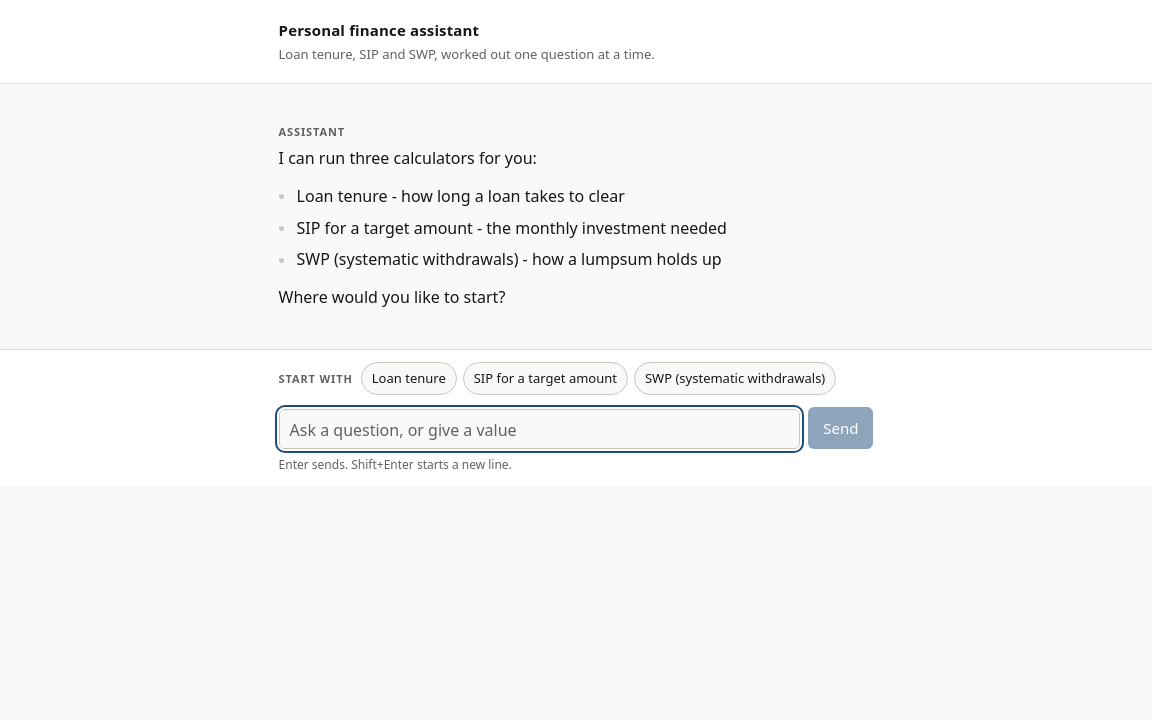
it: App › returns focus to the field after sending
Expected: the text "Where would you like to start?" is shown, [279,286,505,308]
Type "hello" into the text box named "Your message" at [539, 429], box [279,409,800,449]
Then press Enter
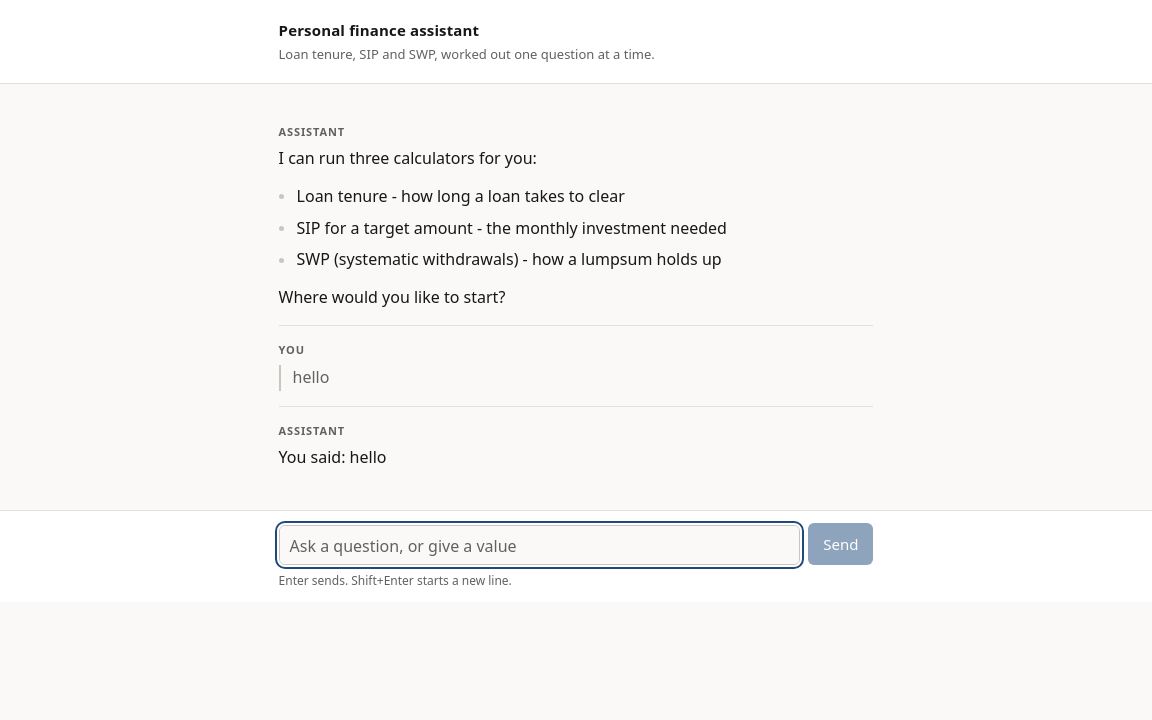
Expected: the text "You said: hello" is shown, [279,446,386,468]
